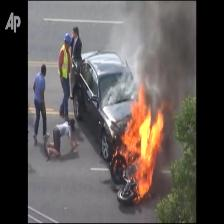fire: (125, 115, 156, 200)
smoke: (136, 17, 195, 106)
